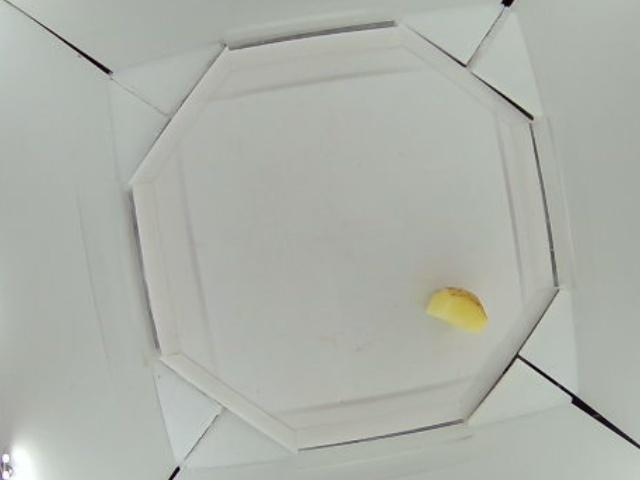Potato: (426, 286, 488, 330)
